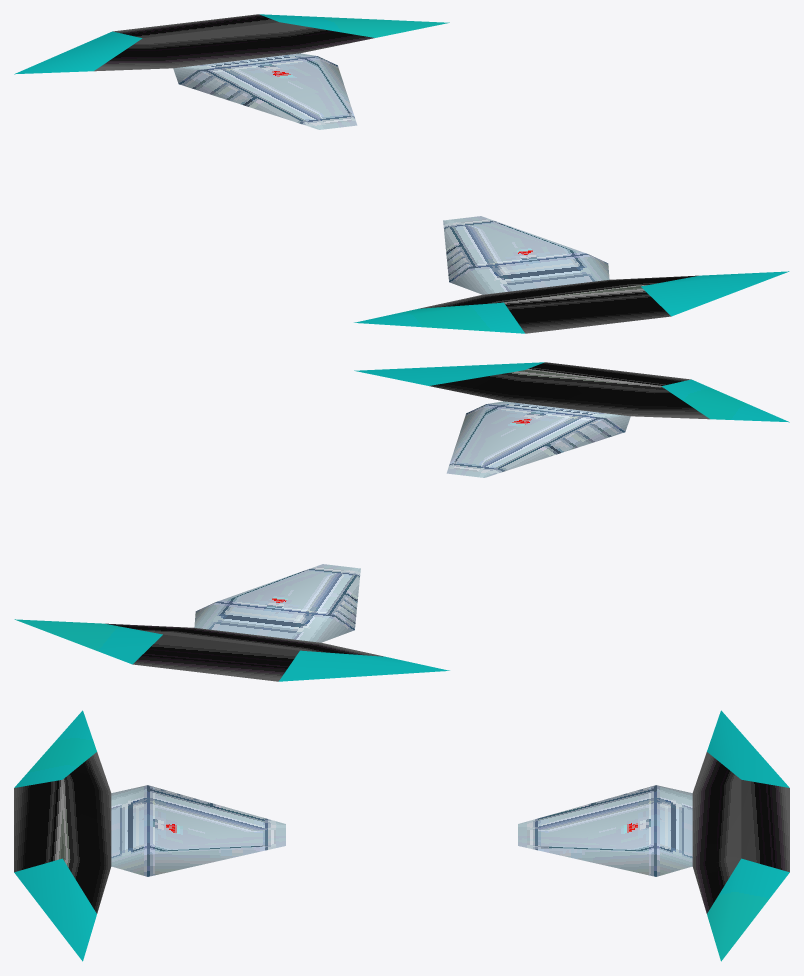
Rendered from Blades.obj.
3 views of the same model, one above another, from view 1: azimuth 30°, elevation 25°; view 2: azimuth 150°, elevation 25°; view 3: azimuth 270°, elevation 25° (orthographic). The views are drawn at different scales.
Bounding box in the file's own units: 19.57 × 2.36 × 32.08.
3 materials, 3 textured.
